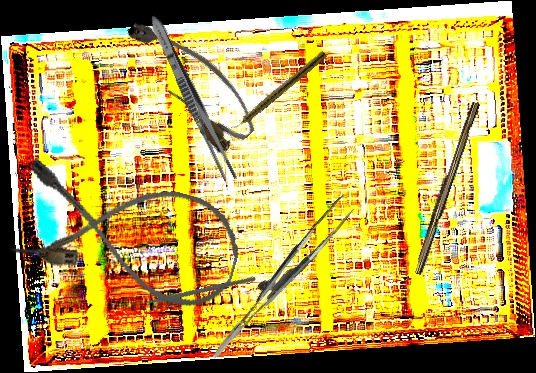Cannula: (6, 151, 251, 317), (118, 1, 265, 159)
Chopper: (124, 223, 257, 355)
Dressing Forceps: (144, 12, 241, 185)
Handpiece: (229, 48, 328, 134)
Scalpel Handle: (410, 99, 481, 277)
Tissue Forceps: (188, 194, 370, 359)
